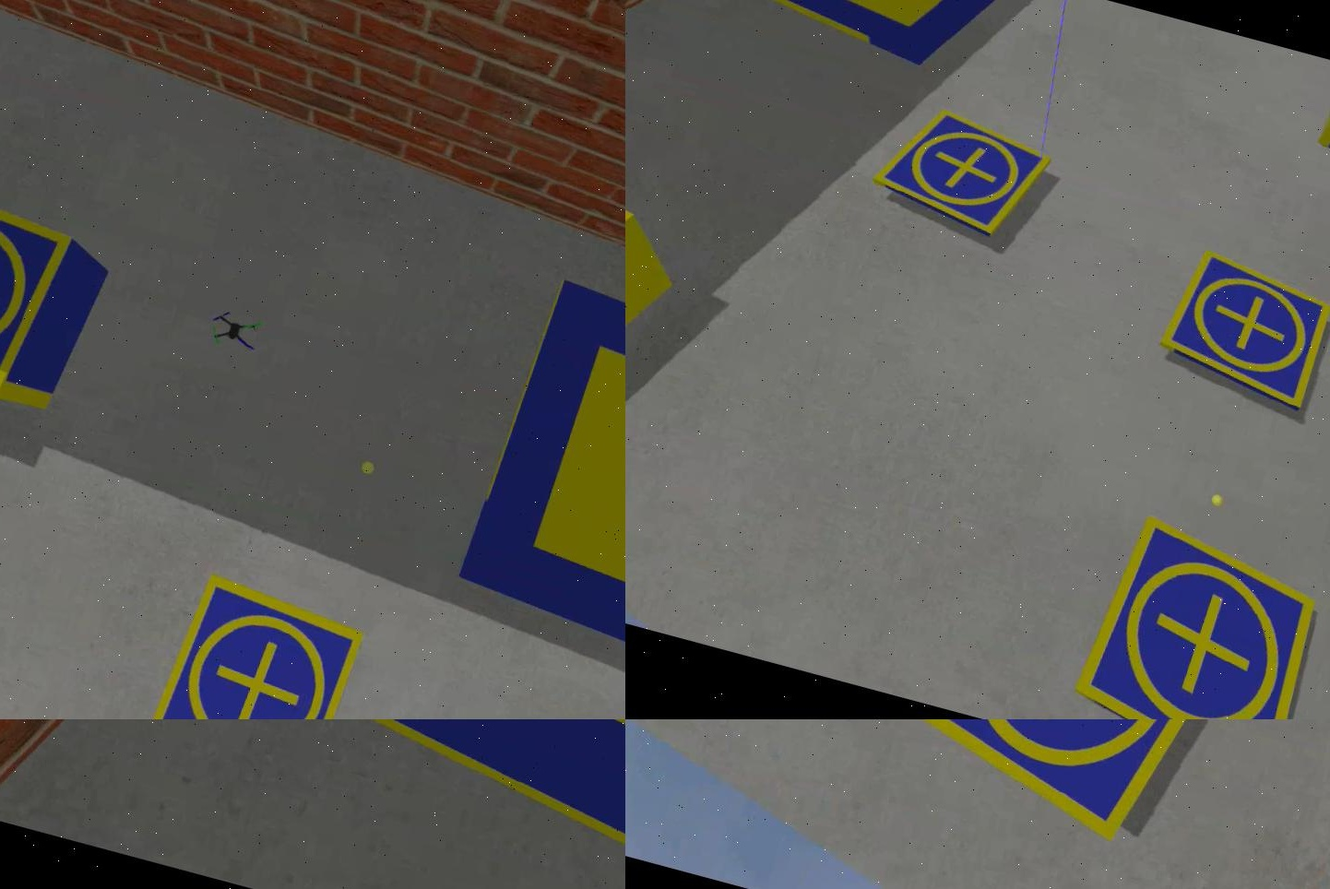large_base: (438, 267, 624, 720), (227, 720, 624, 889), (712, 1, 1026, 89)
small_base: (1058, 509, 1328, 720), (874, 720, 1264, 859), (133, 573, 367, 720), (1150, 243, 1328, 413), (864, 99, 1052, 253), (0, 163, 82, 409)
